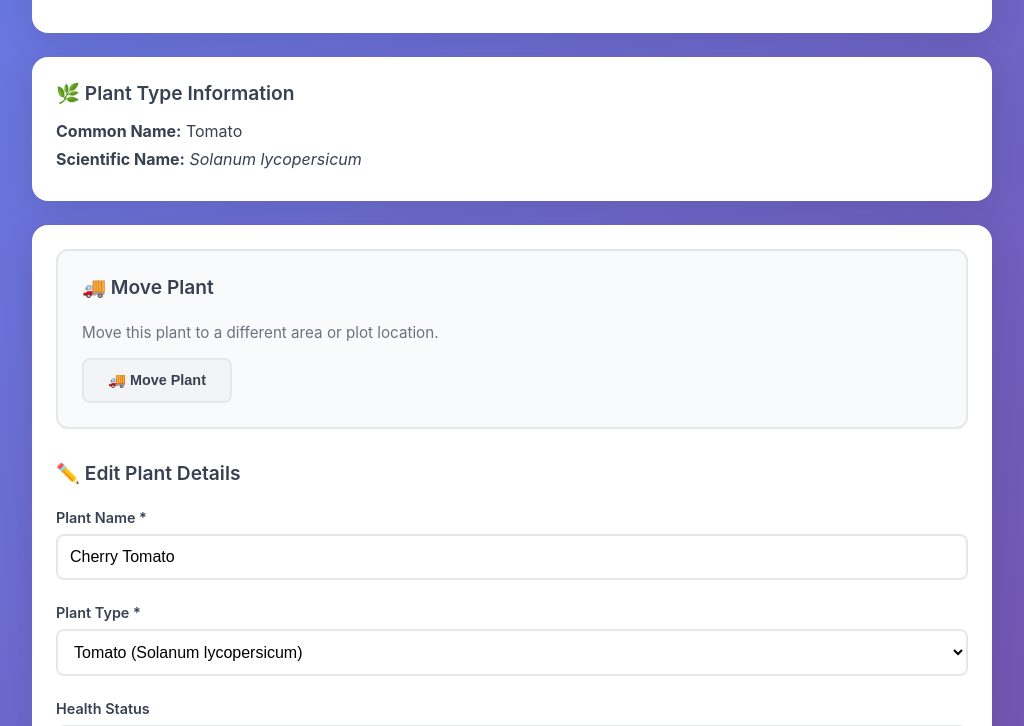
Scenario: PlantDetails › opens move plant dialog
(page scrolled)
Check: the field showing "Cherry Tomato" is shown, box [56, 534, 968, 580]
# Click move plant button
Click the button with test id "move-plant-button": point(157, 380) [82, 358, 232, 403]
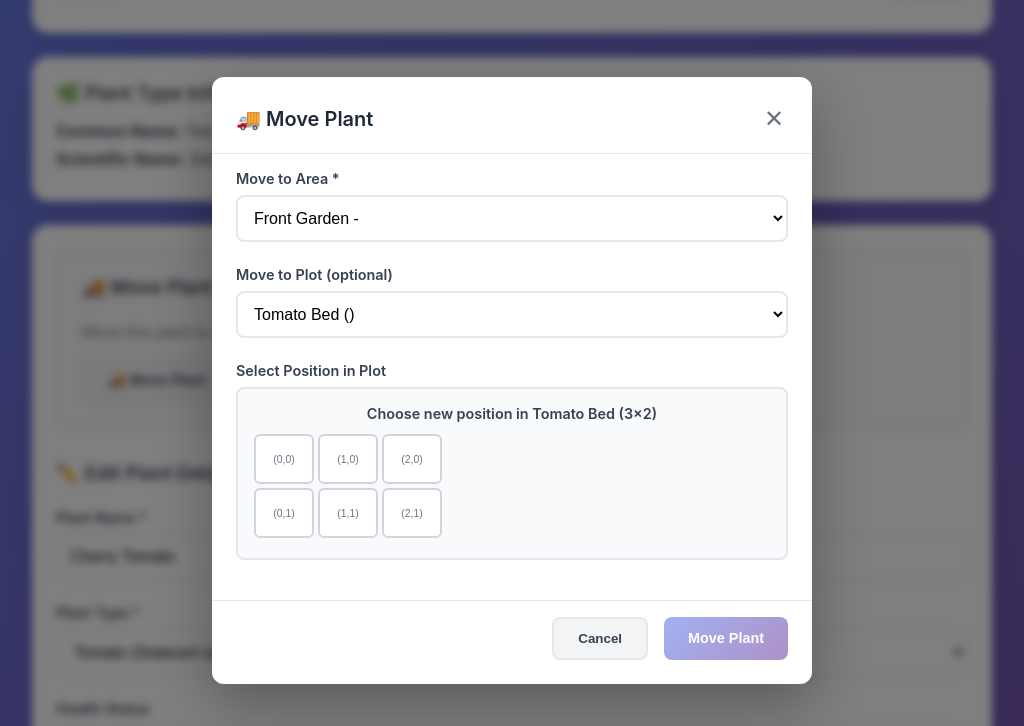
Check: the button "Move Plant" is shown, box [664, 616, 788, 660]
